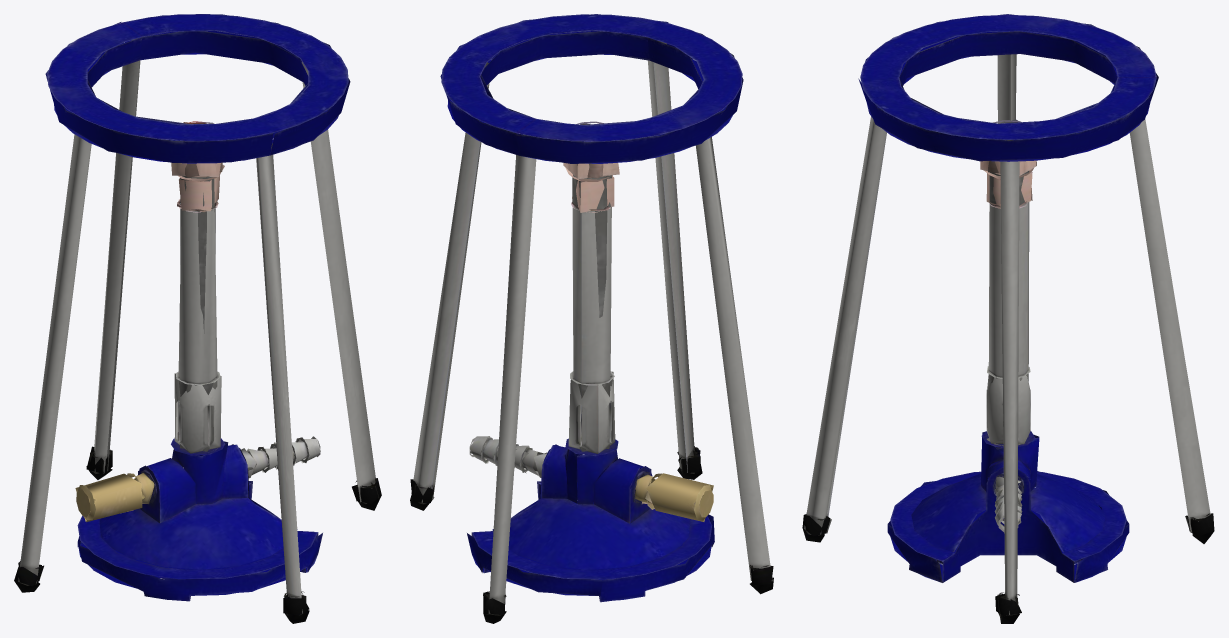
Rendered from bunsen_burner.glb.
3 renders of one model, left to right at view 1: azimuth 30°, elevation 25°; view 2: azimuth 150°, elevation 25°; view 3: azimuth 270°, elevation 25°, orthographic.
Parts seen in each view (by area): view 1: CC0_bunsen_burner; view 2: CC0_bunsen_burner; view 3: CC0_bunsen_burner.
Boxes of the visible parts, x1,y1,x2,y2 form: CC0_bunsen_burner: (14,14,381,623); CC0_bunsen_burner: (410,14,773,623); CC0_bunsen_burner: (802,14,1214,623).
Bounding box in the file's own units: 0.1742 × 0.2166 × 0.1742.
Materials: 1 (1 with a texture image).
